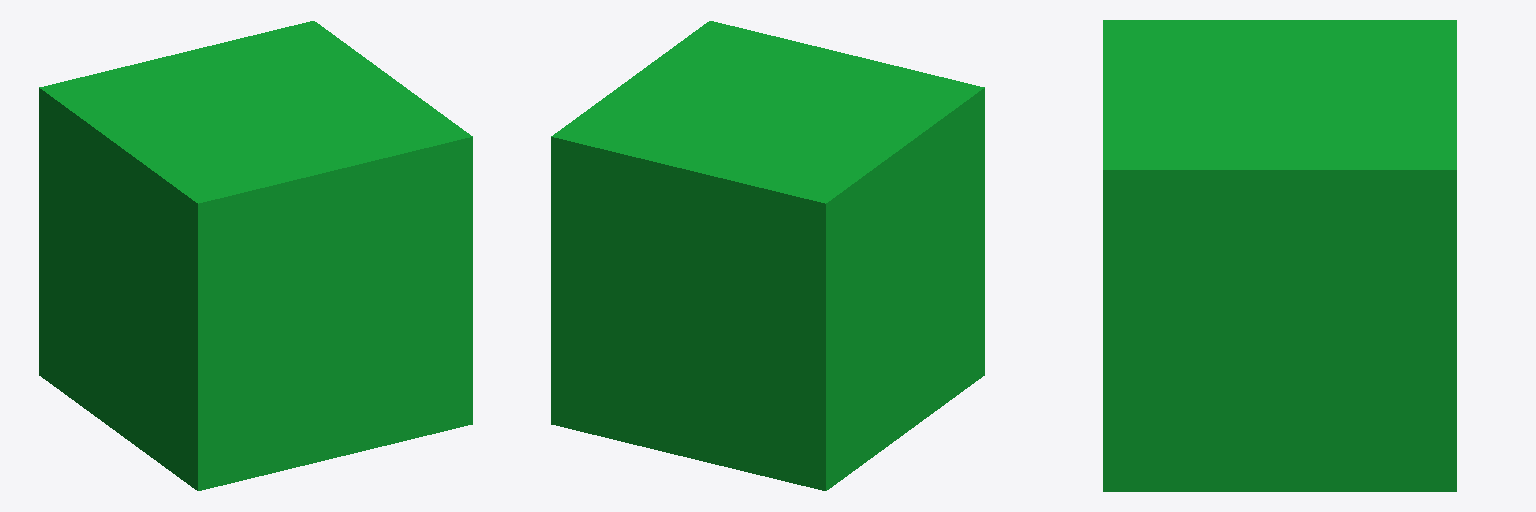
The robot description file, URDF, robot "dvrk_simulator_grasp_cube":
<?xml version="1.0"?>
<!-- SPDX-License-Identifier: Apache-2.0 -->
<robot name="dvrk_simulator_grasp_cube">
  <link name="cube">
    <inertial>
      <origin xyz="0 0 0" rpy="0 0 0"/>
      <mass value="0.012"/>
      <inertia ixx="0.0000008" ixy="0" ixz="0" iyy="0.0000008" iyz="0" izz="0.0000008"/>
    </inertial>
    <visual>
      <geometry><box size="0.020 0.020 0.020"/></geometry>
      <material name="cube_green"><color rgba="0.12 0.72 0.26 1"/></material>
    </visual>
    <collision><geometry><box size="0.020 0.020 0.020"/></geometry></collision>
    <contact><lateral_friction value="1.0"/></contact>
  </link>
</robot>

--- What the picture shows (computed from the rendered views, not written in the file) ---
The picture shows the robot from 3 angles, left to right: view 1: azimuth 30°, elevation 25°; view 2: azimuth 150°, elevation 25°; view 3: azimuth 270°, elevation 25°; orthographic projection.
Model dvrk_simulator_grasp_cube with 1 links and 0 joints (none), rooted at cube, posed all joints at 0.
Visible links, largest first — view 1: cube; view 2: cube; view 3: cube.
Link boxes in pixels (x1=…): cube: x1=39, y1=21, x2=472, y2=490; cube: x1=551, y1=21, x2=984, y2=490; cube: x1=1103, y1=20, x2=1456, y2=491.
Bounding box of the posed robot: 0.02 × 0.02 × 0.02 m (x, y, z).
Geometry: primitives only (box / cylinder / sphere), no mesh files.
